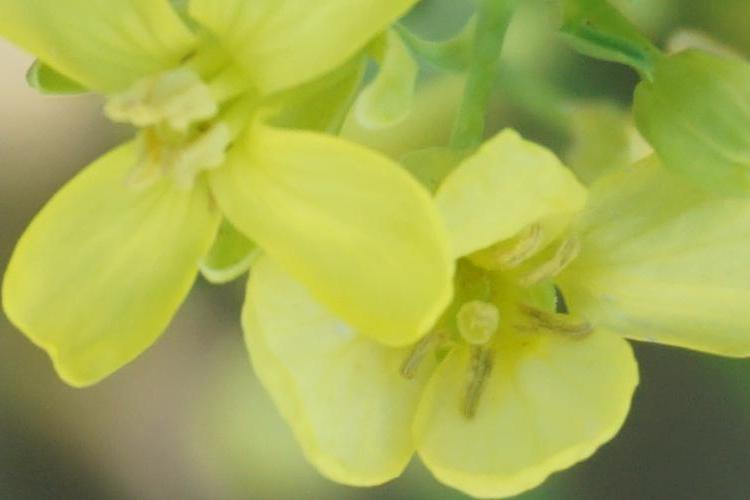yellow: (238, 137, 749, 488), (2, 4, 423, 427)
